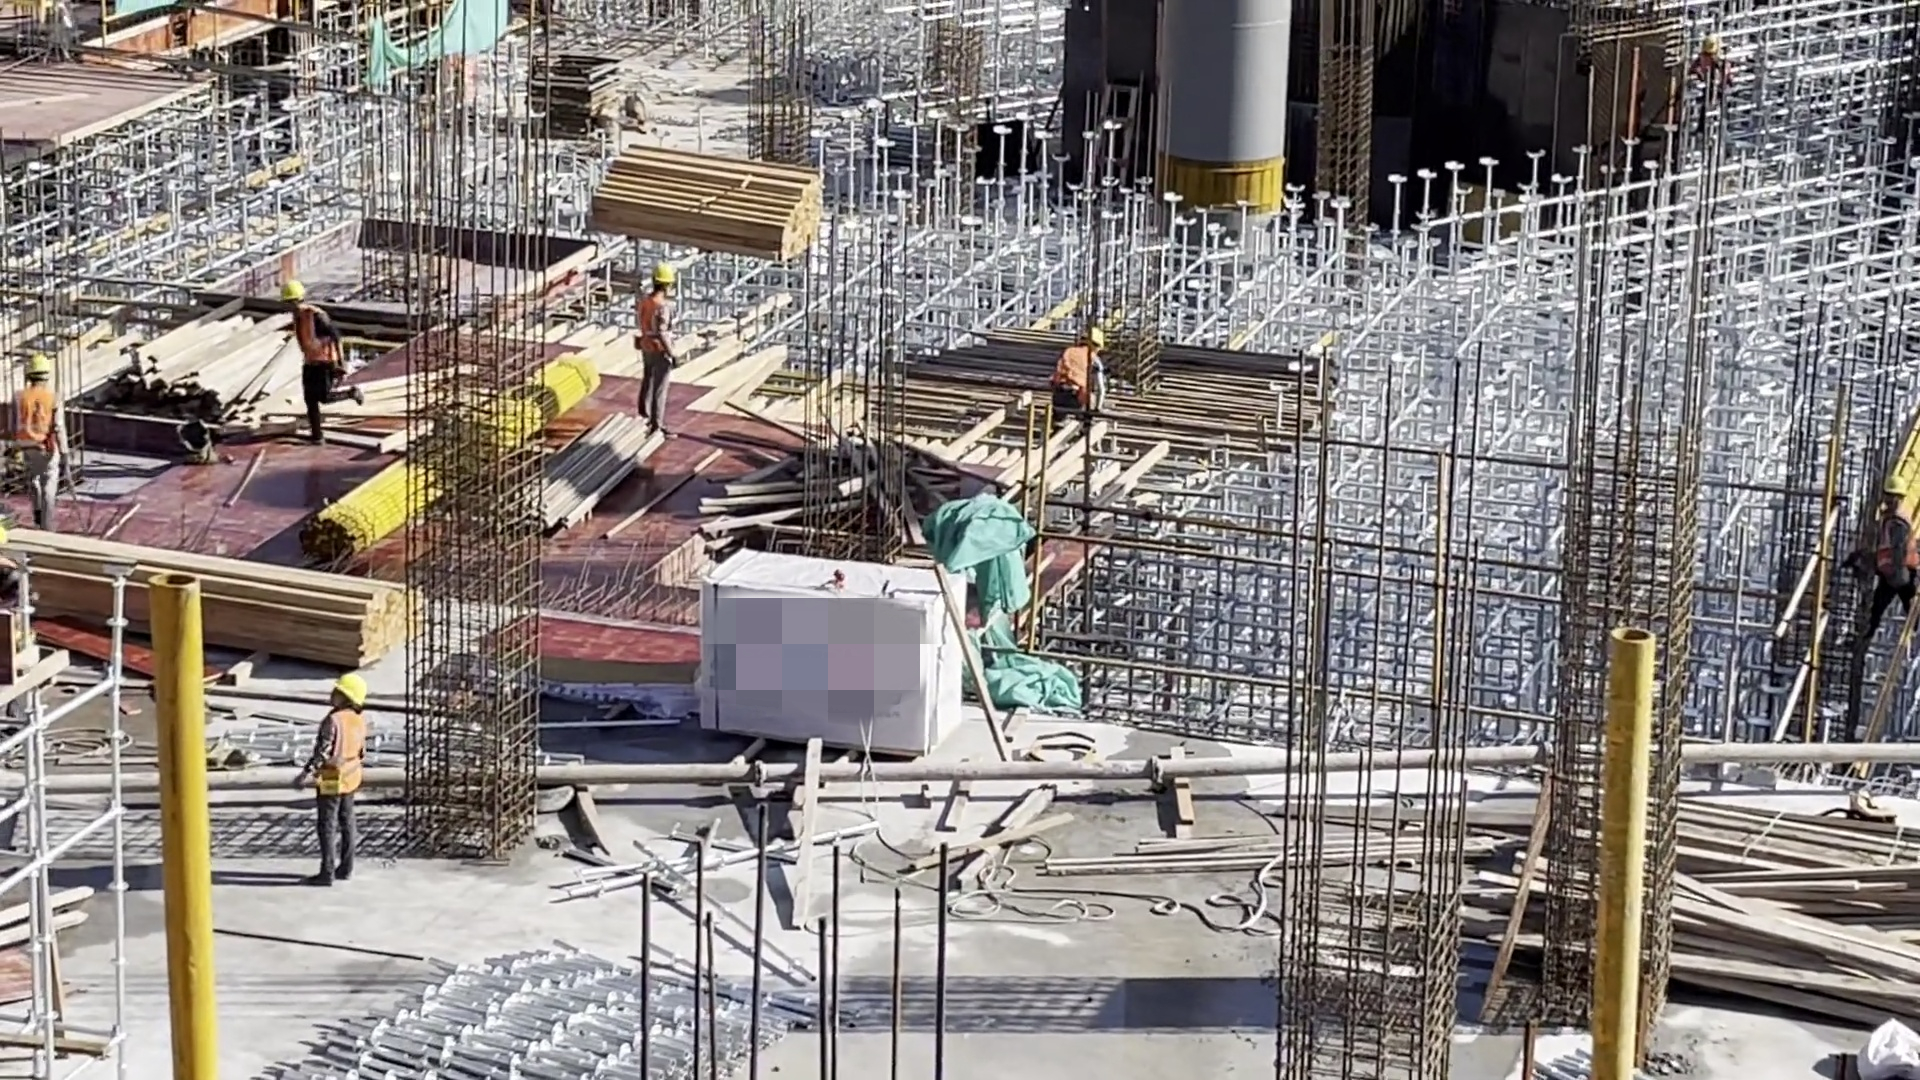helmet: (1699, 35, 1724, 58)
person: (278, 278, 375, 442), (301, 675, 371, 887), (14, 357, 75, 537), (630, 261, 691, 435), (1871, 475, 1920, 627), (1053, 323, 1107, 425), (1688, 37, 1733, 98)
scaffold: (254, 930, 819, 1080)
vest: (321, 710, 366, 795), (292, 306, 339, 369), (17, 386, 58, 453), (1059, 342, 1100, 401), (1876, 513, 1920, 566), (641, 293, 667, 361), (328, 676, 369, 708), (275, 277, 309, 305), (646, 260, 675, 286), (1883, 478, 1905, 509), (24, 356, 51, 377), (1080, 325, 1103, 347)
wood: (1517, 785, 1920, 1043), (7, 525, 439, 665), (588, 145, 824, 262)
